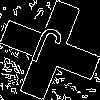J: (25, 25, 65, 77)
